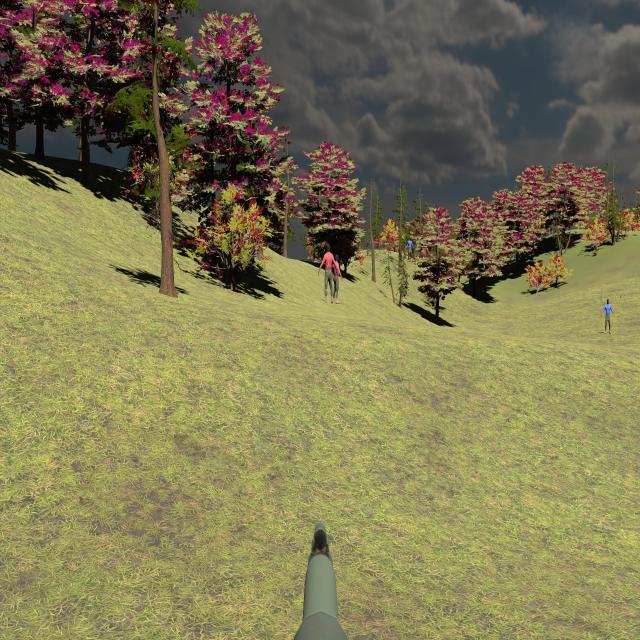Human: (318, 243, 337, 302), (331, 254, 343, 304), (602, 298, 615, 335)
